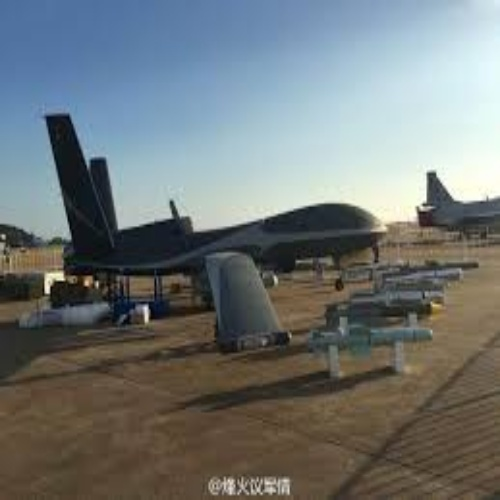uav5: (38, 110, 385, 349)
